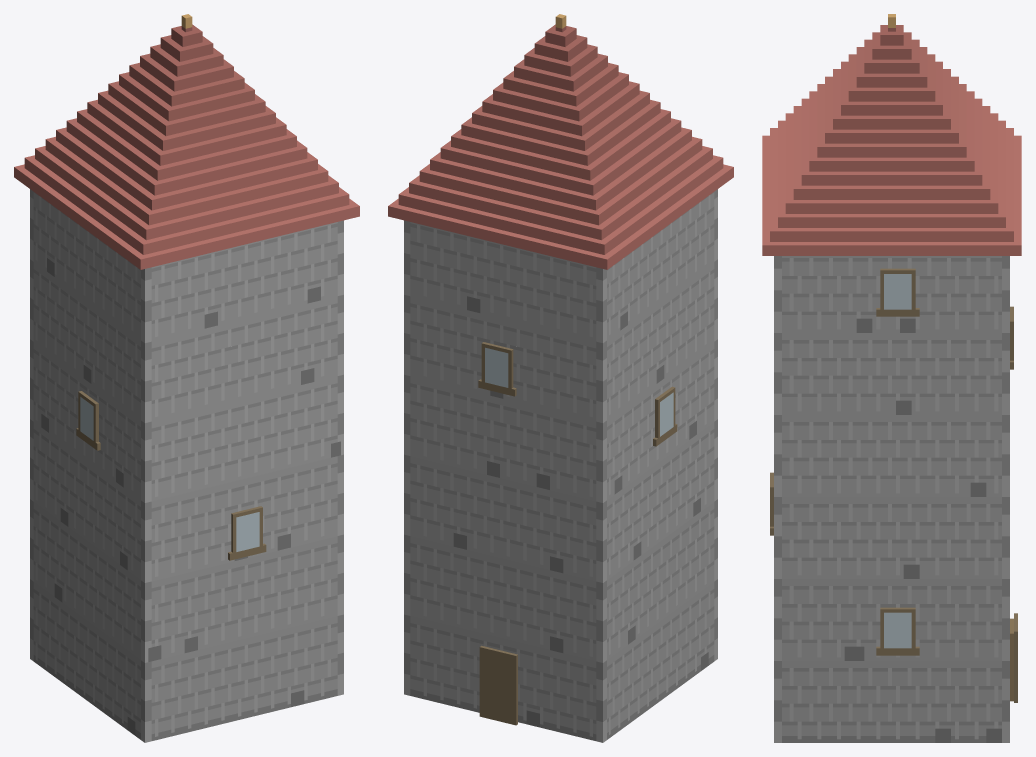
The model's file is faro_01.glb.
The picture shows the model from 3 angles, left to right: view 1: azimuth 30°, elevation 25°; view 2: azimuth 150°, elevation 25°; view 3: azimuth 270°, elevation 25°; orthographic projection. The views are drawn at different scales.
Visible parts, largest first — view 1: faro_01; view 2: faro_01; view 3: faro_01.
Part boxes in pixels (x1,y1,x2,y2): faro_01: [14, 14, 359, 742]; faro_01: [388, 14, 733, 742]; faro_01: [762, 14, 1021, 742].
Bounding box in the file's own units: 6.6 × 19 × 6.6.
